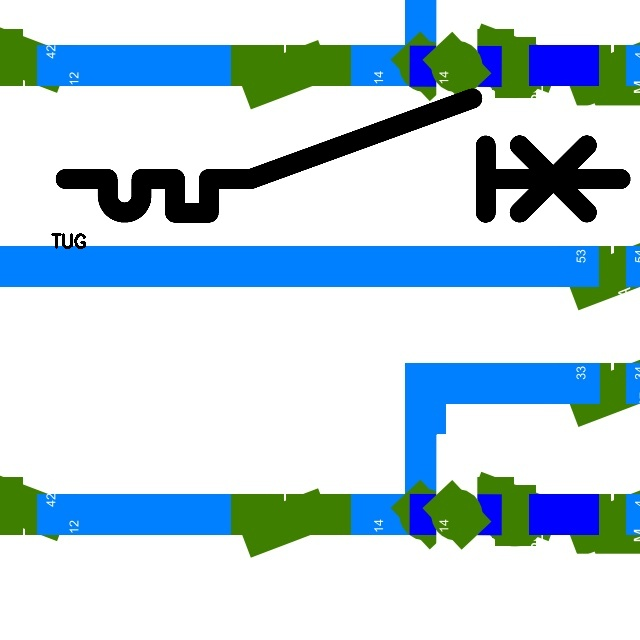interruptor_termomagnetico: (51, 84, 634, 227)
